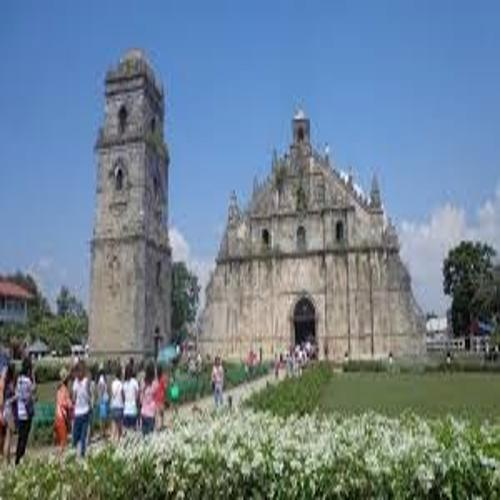Paoay Church: (80, 41, 441, 375)
